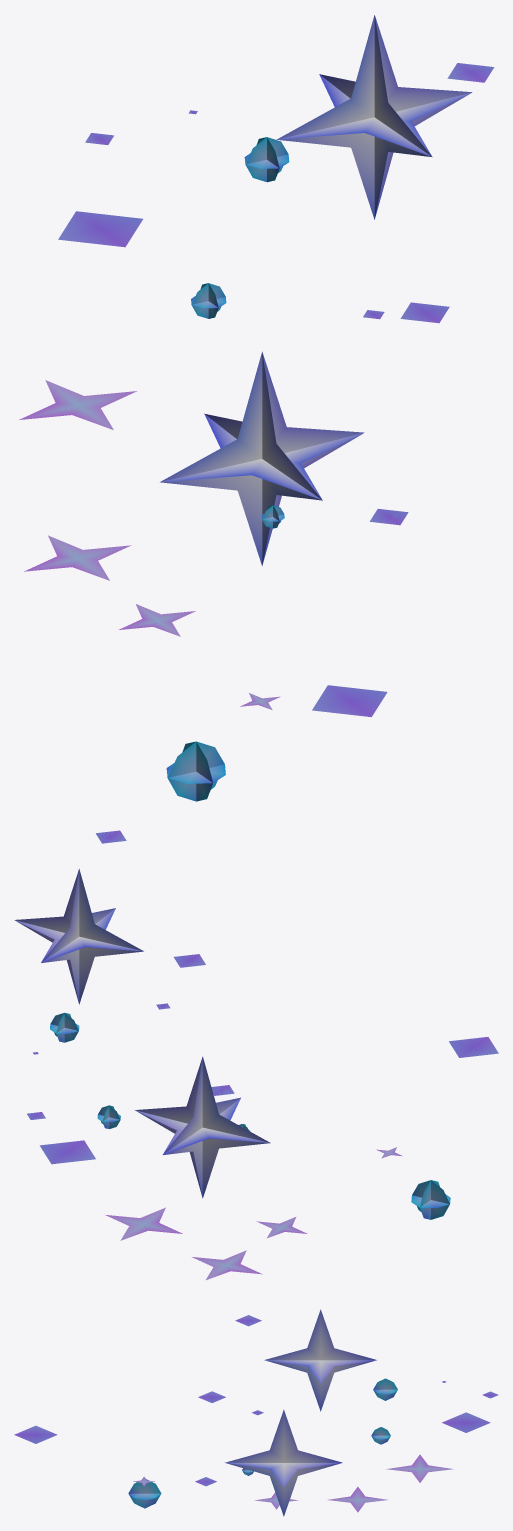
3 renders of one model, top to bottom at view 1: azimuth 30°, elevation 25°; view 2: azimuth 150°, elevation 25°; view 3: azimuth 270°, elevation 25°, orthographic. The views are drawn at different scales.
Visible parts, largest first — view 1: starcloud222; view 2: starcloud222; view 3: starcloud222.
Boxes of the visible parts, bbox=[...] form: starcloud222: bbox=[19, 15, 494, 801]; starcloud222: bbox=[14, 830, 498, 1279]; starcloud222: bbox=[14, 1309, 498, 1516].
Size of the model in its own units: 0.2865 by 0.3254 by 0.5.
